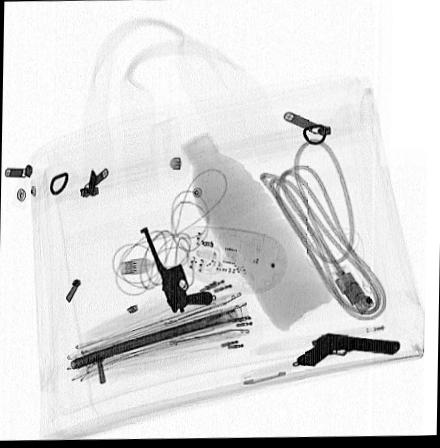Gun: (139, 226, 212, 313), (296, 334, 401, 367)
